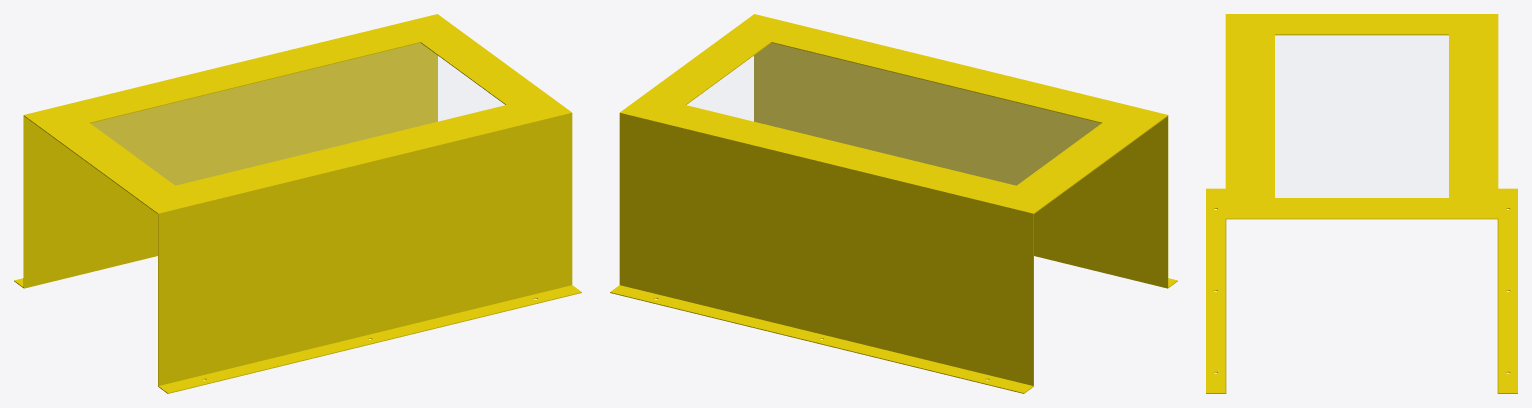
The model's file is conveyor-guard.glb.
3 renders of one model, left to right at view 1: azimuth 30°, elevation 25°; view 2: azimuth 150°, elevation 25°; view 3: azimuth 270°, elevation 25°, orthographic.
Visible parts, largest first — view 1: body; view 2: body; view 3: body.
Boxes of the visible parts, left/top/right/bottom form: body: left=14, top=14, right=581, bottom=393; body: left=610, top=14, right=1177, bottom=393; body: left=1206, top=14, right=1517, bottom=393.
Size of what is drawn, in the model's own units: 1 by 0.4 by 0.644.
